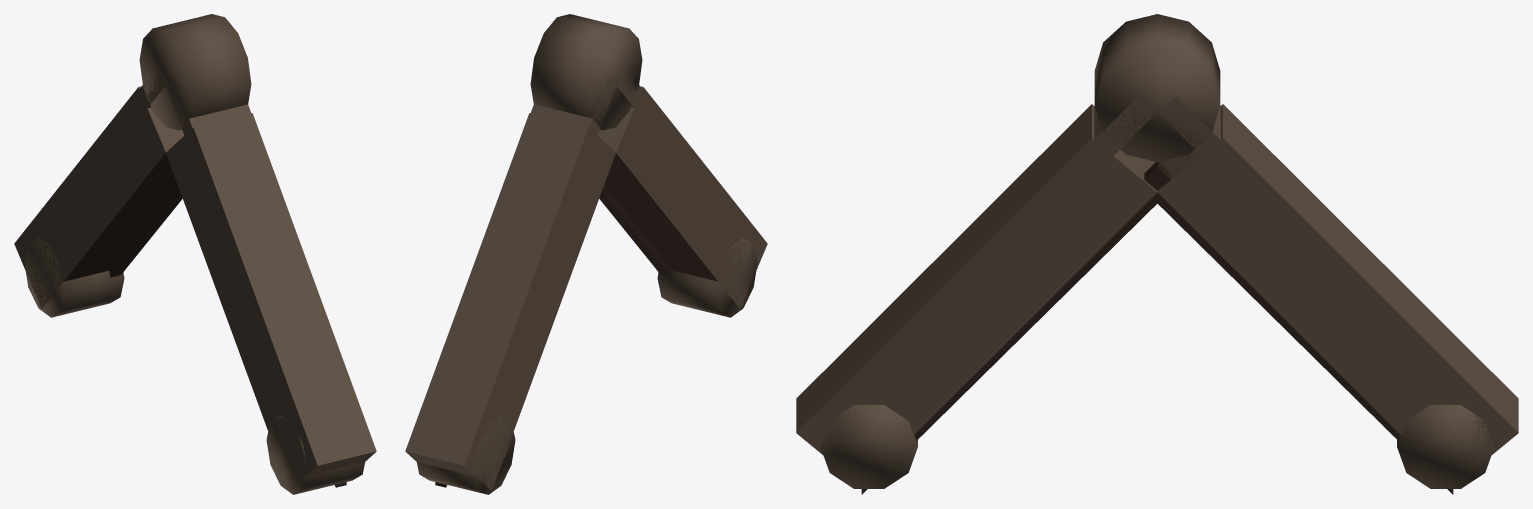
The model's file is kit_timber_thatch_w1_end.glb.
The picture shows the model from 3 angles, left to right: view 1: azimuth 30°, elevation 25°; view 2: azimuth 150°, elevation 25°; view 3: azimuth 270°, elevation 25°; orthographic projection. The views are drawn at different scales.
Parts seen in each view (by area): view 1: kit_timber_thatch_w1_end; view 2: kit_timber_thatch_w1_end; view 3: kit_timber_thatch_w1_end.
Boxes of the visible parts, <box> form: kit_timber_thatch_w1_end: <box>14,14,376,494</box>; kit_timber_thatch_w1_end: <box>405,14,767,494</box>; kit_timber_thatch_w1_end: <box>796,14,1518,494</box>.
Size of the model in its own units: 0.22 by 1.34 by 1.96.
